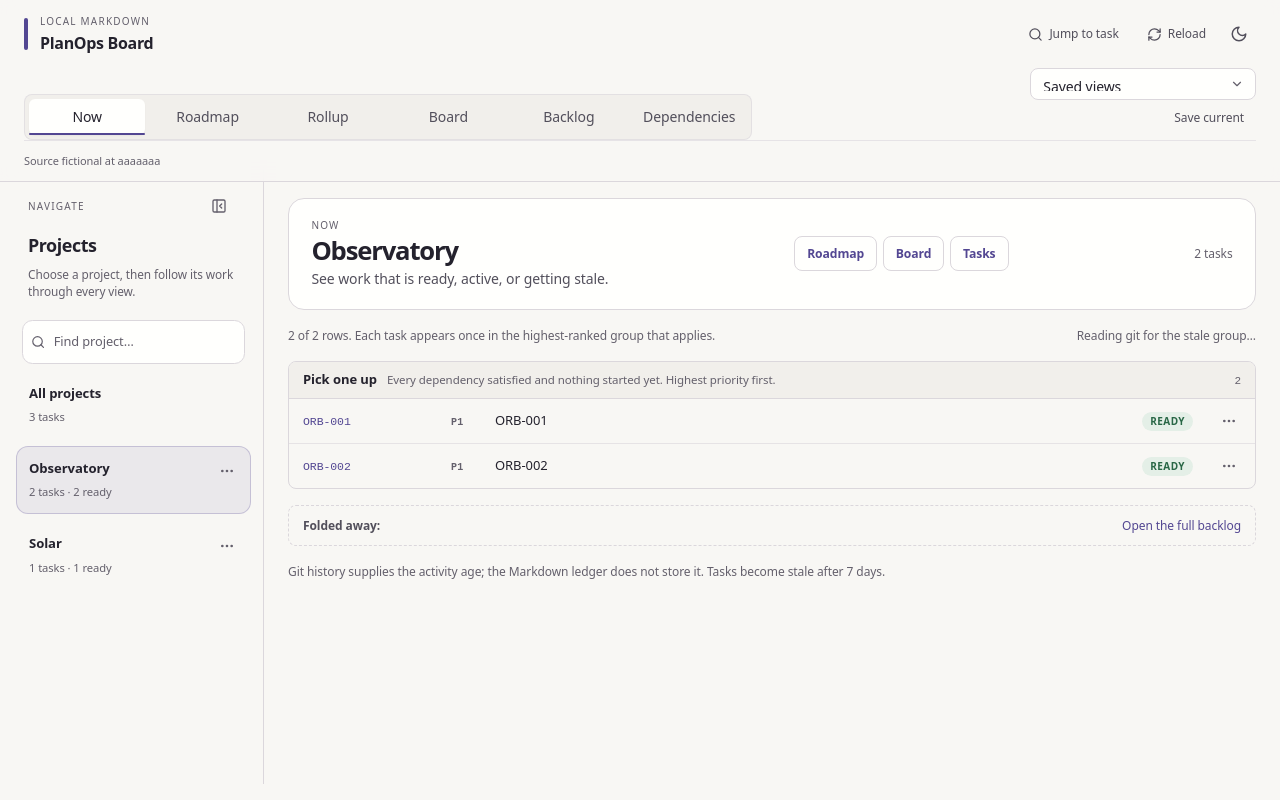
Scenario: task actions in now › opens the reader for the task and keeps the view and project
Step 1. Click the button named "Actions for ORB-001" → (1229, 420), box [1207,398,1251,442]
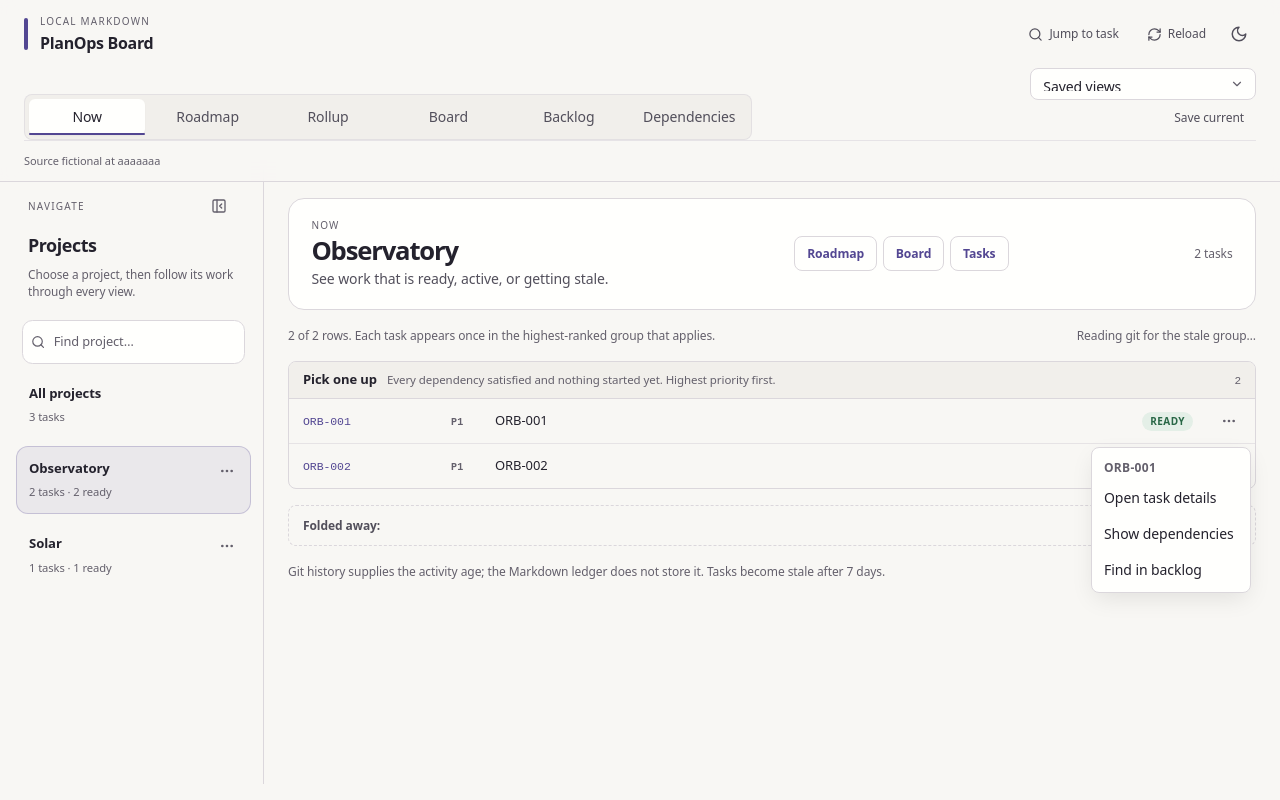
Step 2. Click the menu item "Open task details" → (1171, 498), box [1092,480,1250,516]
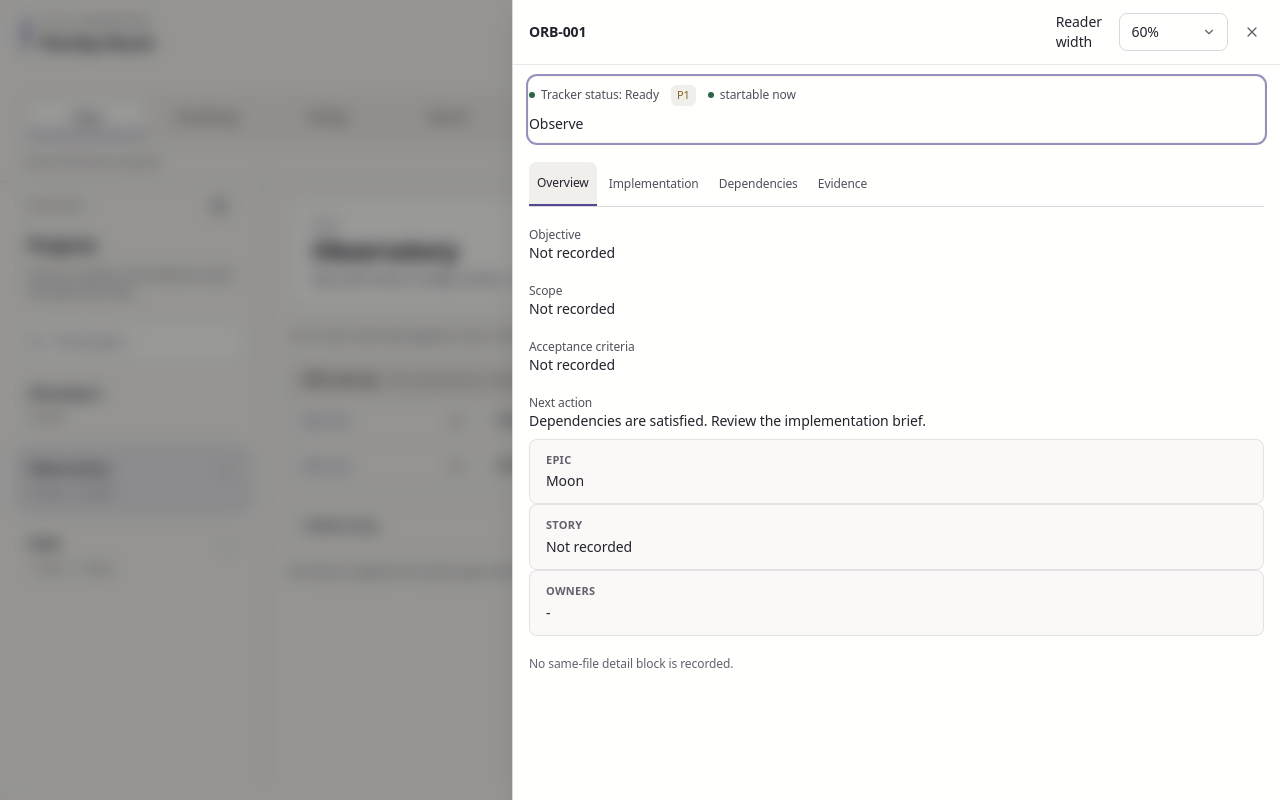
expect the dialog "ORB-001" is shown: met, box [512,0,1279,799]
expect the menu is gone: met
